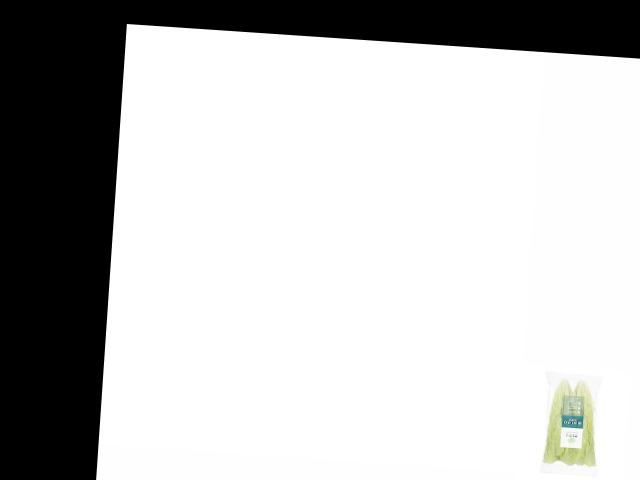lettuce: (535, 375, 601, 470)
